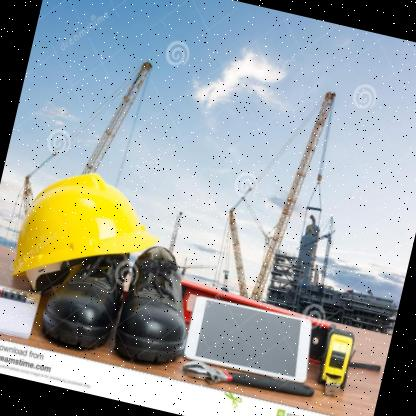bota: (107, 236, 207, 374), (32, 233, 135, 362)
